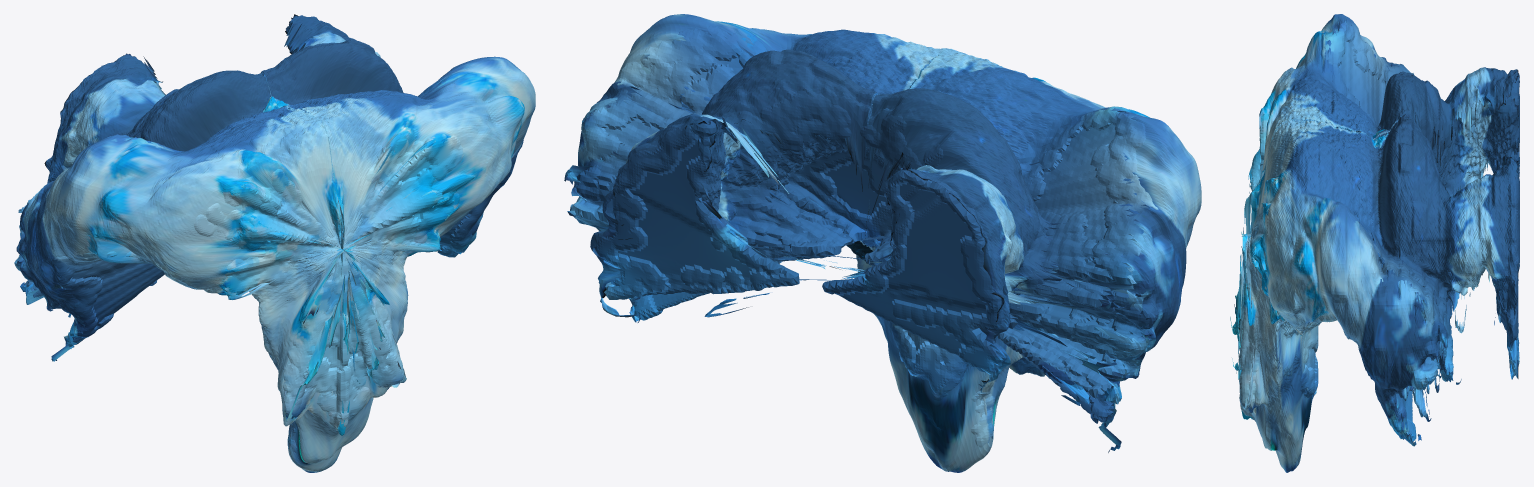
The model's file is volume2_mesh.glb.
3 views of the same model, side by side, from view 1: azimuth 30°, elevation 25°; view 2: azimuth 150°, elevation 25°; view 3: azimuth 270°, elevation 25° (orthographic). The views are drawn at different scales.
Parts seen in each view (by area): view 1: ipn, fill; view 2: fill, ipn; view 3: ipn, fill.
Part boxes in pixels (bbox=[...]): ipn: bbox=[14, 14, 535, 472]; fill: bbox=[17, 16, 515, 454]; fill: bbox=[570, 25, 1158, 448]; ipn: bbox=[564, 14, 1201, 472]; ipn: bbox=[1230, 14, 1518, 472]; fill: bbox=[1238, 19, 1519, 441].
Size of the model in its own units: 1.99 by 1.45 by 1.02.
2 materials, 1 textured.
